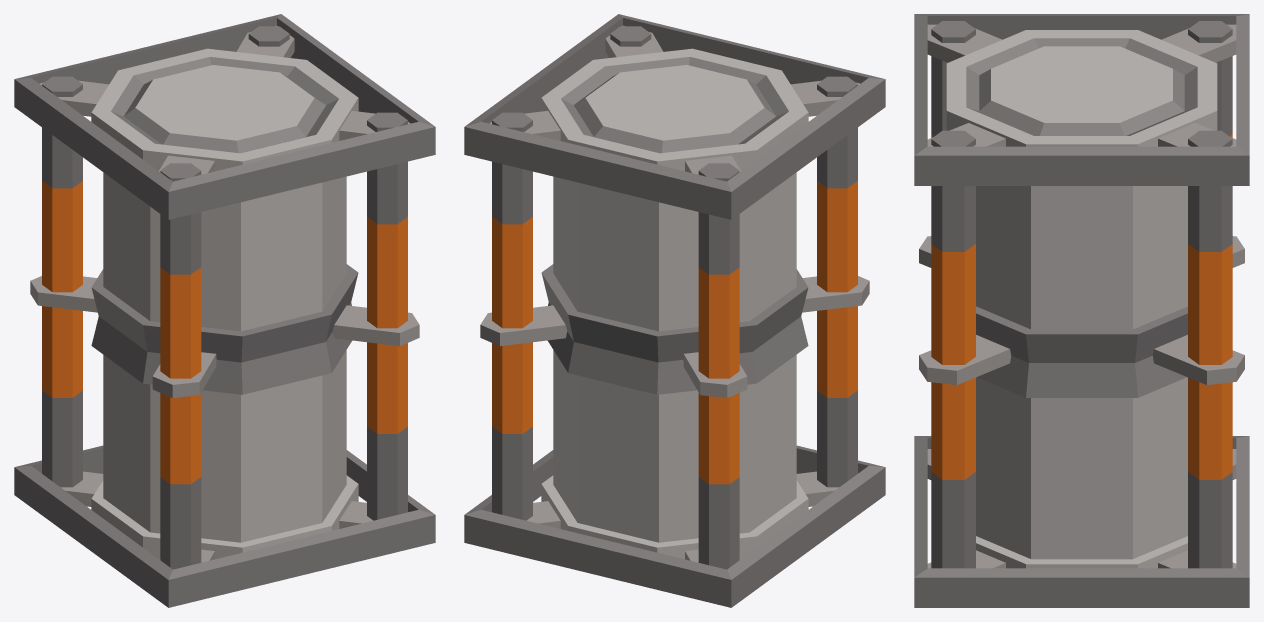
Rendered from scifi_scifi-vial-crate.fbx.
3 renders of one model, left to right at view 1: azimuth 30°, elevation 25°; view 2: azimuth 150°, elevation 25°; view 3: azimuth 270°, elevation 25°, orthographic. The views are drawn at different scales.
Parts seen in each view (by area): view 1: scifi_scifi_vial_crate; view 2: scifi_scifi_vial_crate; view 3: scifi_scifi_vial_crate.
Boxes of the visible parts, x1,y1,x2,y2 form: scifi_scifi_vial_crate: [14, 14, 435, 607]; scifi_scifi_vial_crate: [464, 14, 885, 607]; scifi_scifi_vial_crate: [914, 14, 1249, 607].
Bounding box in the file's own units: 133 × 200 × 133.
